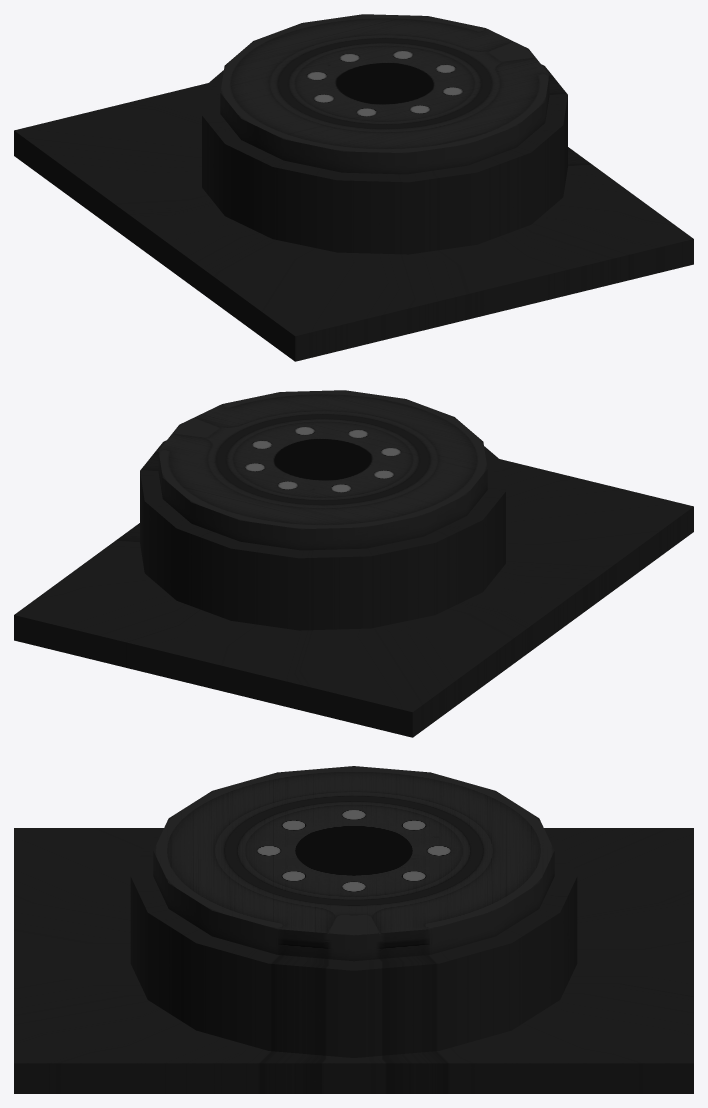
File: mount.obj
3 views of the same model, one above another, from view 1: azimuth 30°, elevation 25°; view 2: azimuth 150°, elevation 25°; view 3: azimuth 270°, elevation 25° (orthographic). The views are drawn at different scales.
Visible parts, largest first — view 1: Cylinder_002-mesh; view 2: Cylinder_002-mesh; view 3: Cylinder_002-mesh.
Part boxes in pixels (bbox=[...]): Cylinder_002-mesh: bbox=[14, 14, 693, 361]; Cylinder_002-mesh: bbox=[14, 390, 693, 737]; Cylinder_002-mesh: bbox=[14, 766, 693, 1093].
Bounding box in the file's own units: 0.0982 × 0.028 × 0.12.
1 material, 1 textured.
